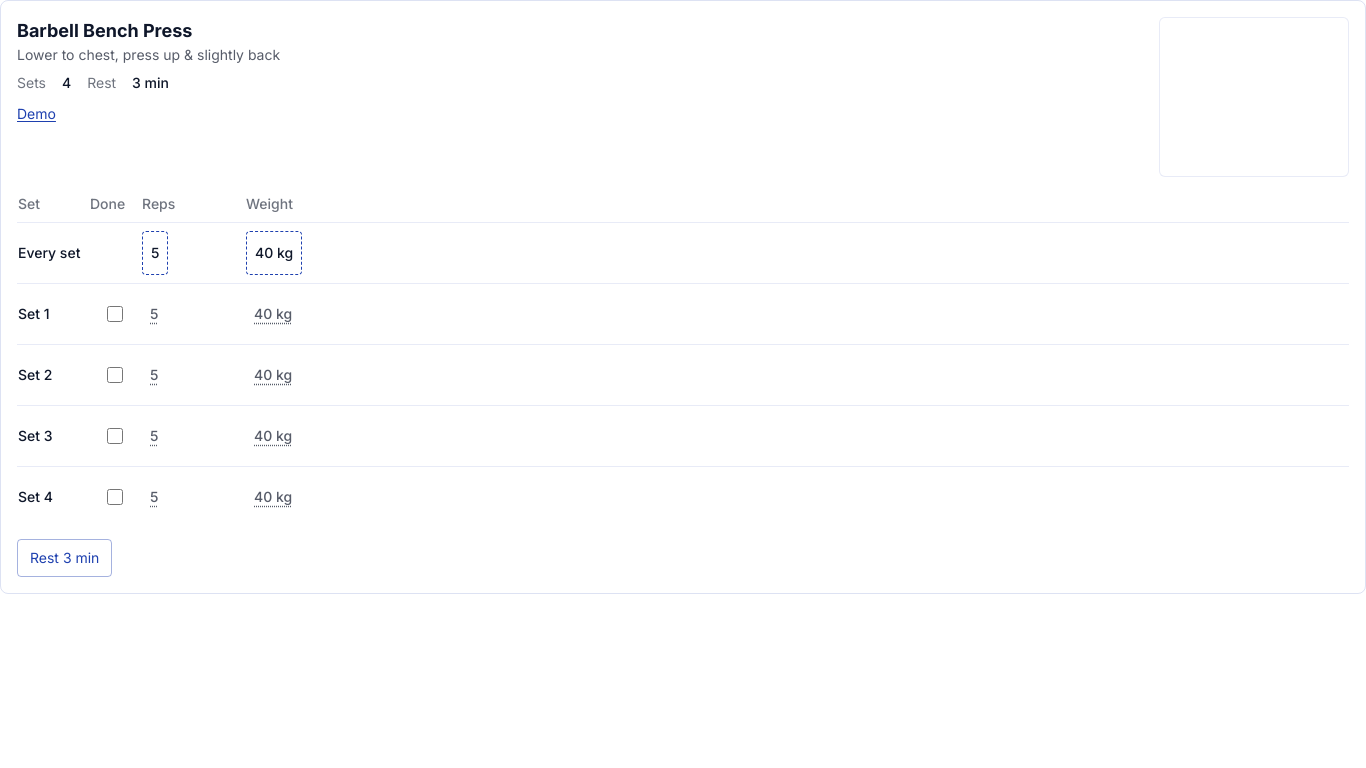
Test: WorkoutExercise › should open an editor scoped to the set that was tapped
This screenshot has width=1366, height=768.
Click the button named "change weight for set 2 of Barbell Bench Press" at coordinates (273, 375), box [246,353,300,397]
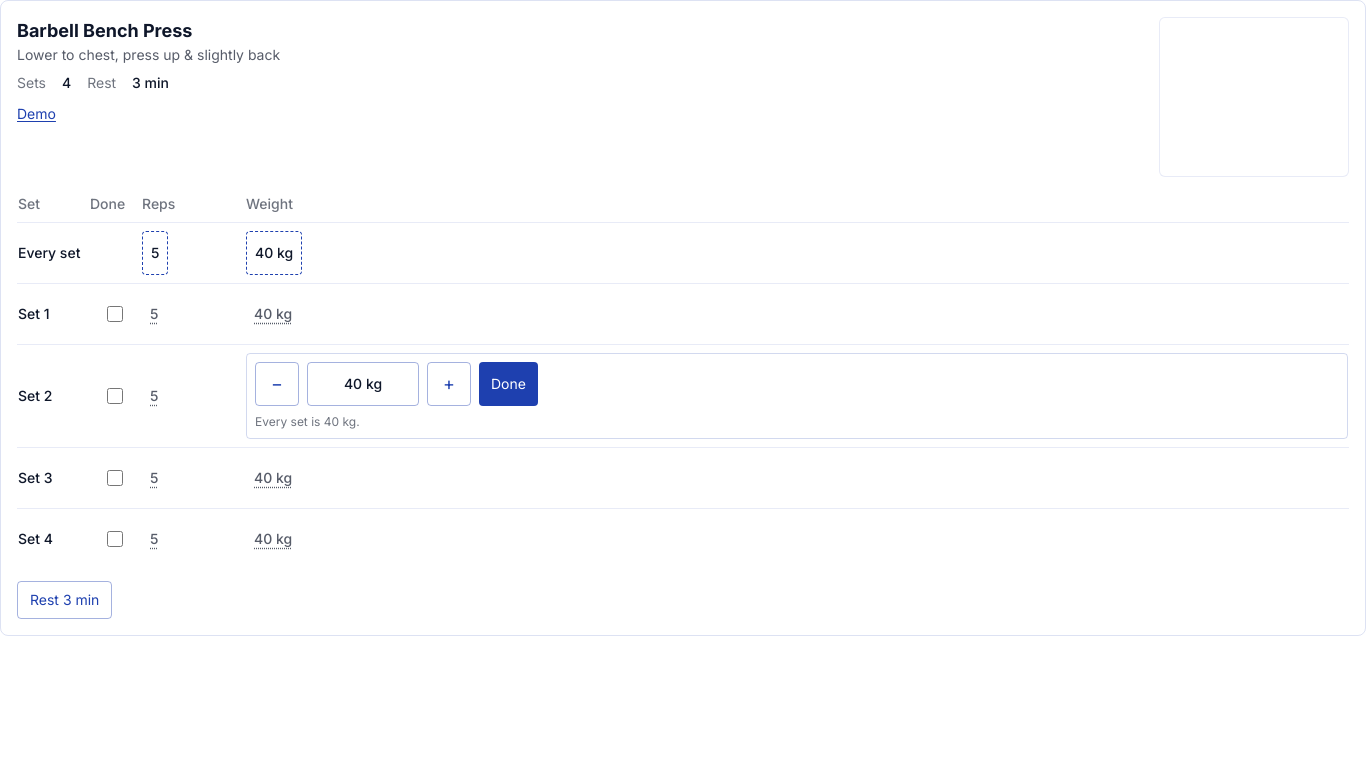
Expected: the field named "Weight for set 2 of Barbell Bench Press" holds "40 kg", [307,362,419,406]
